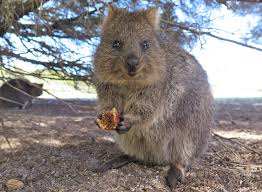quokka: (90, 4, 215, 190)
